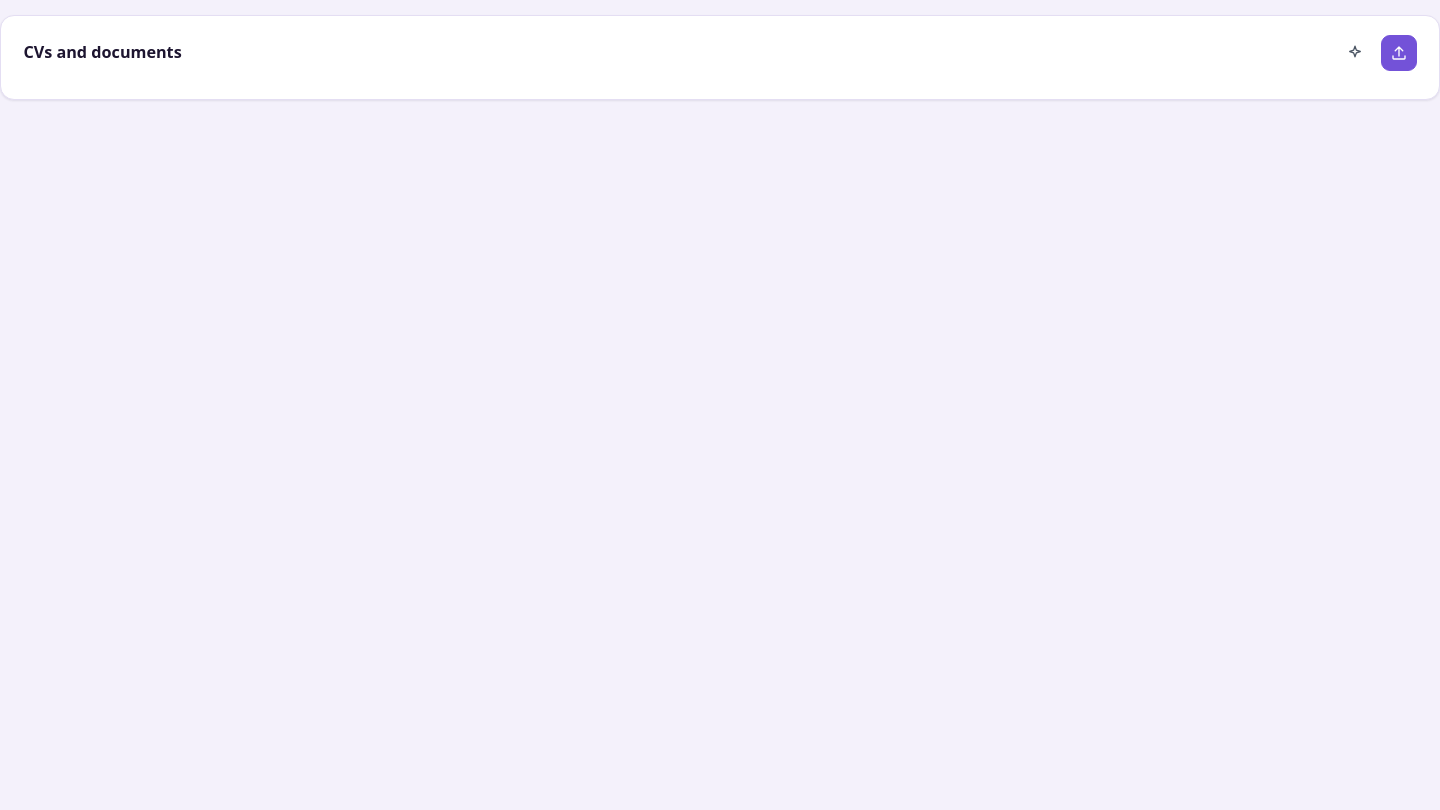
Test: formatting a CV › opens the form at once when no formatted CV is saved
The image size is (1440, 810).
Click the button named "Format a CV" at (1355, 53), box x1=1337 y1=35 x2=1373 y2=71
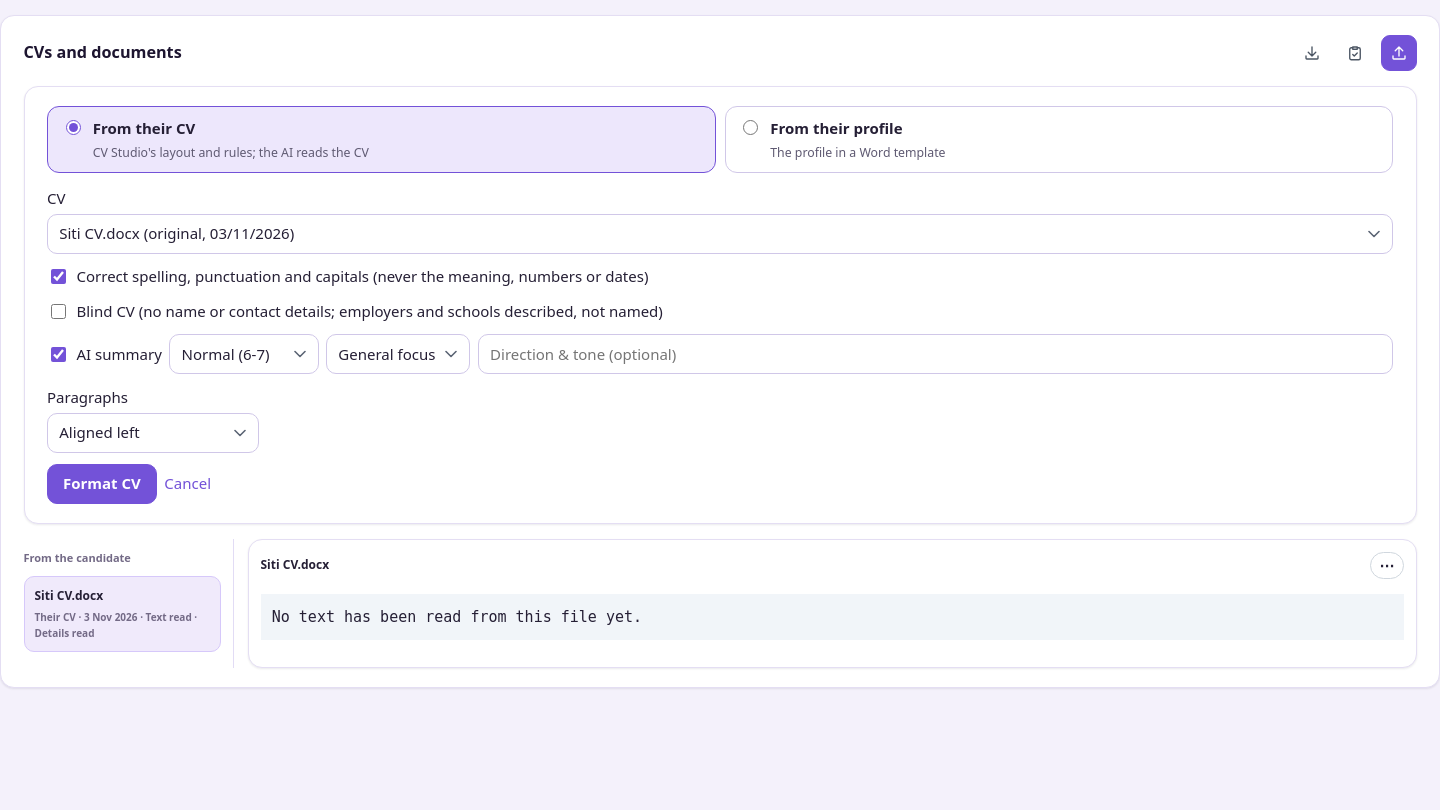
expect the form named "Format their CV" is shown: met, box x1=47 y1=186 x2=1393 y2=504
